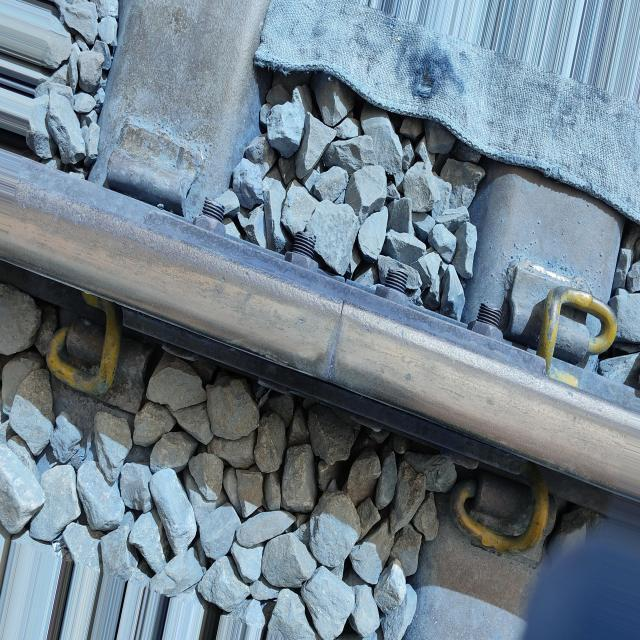Good Fasteners: (451, 464, 549, 553), (536, 286, 617, 387), (46, 292, 121, 397)
Good Joint: (120, 184, 527, 487)
Missing Fastener: (88, 95, 218, 222)
